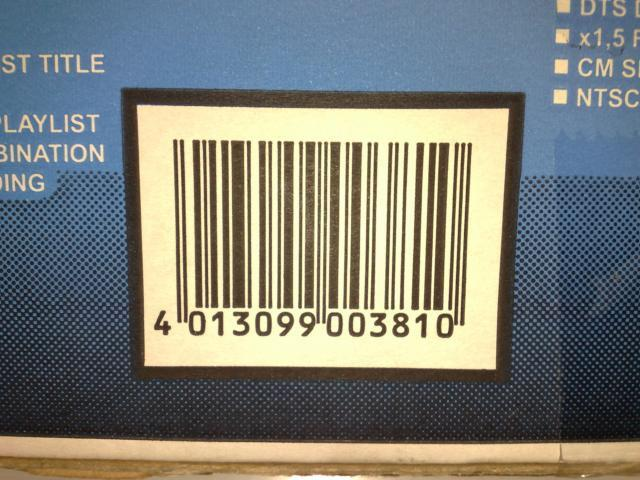Barcode: (148, 140, 475, 349)
